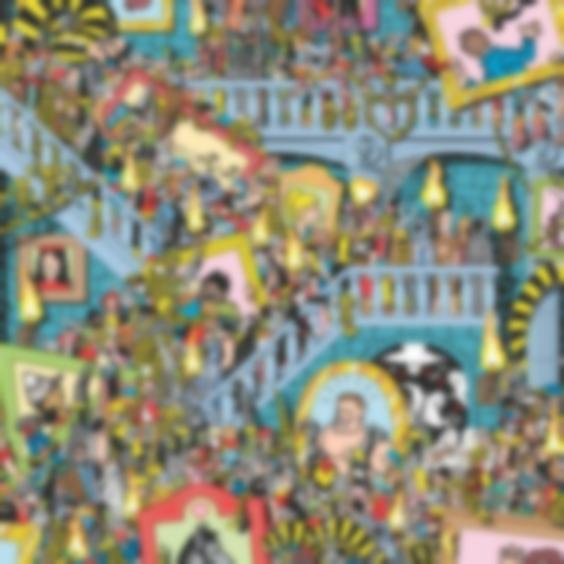waldos: (105, 64, 126, 94)
